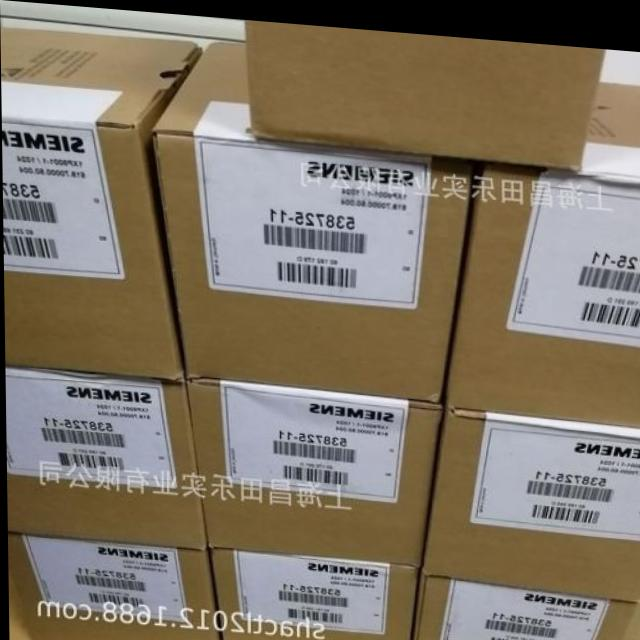box: (154, 35, 471, 398), (2, 26, 202, 375), (445, 71, 640, 416), (244, 18, 606, 165), (185, 374, 441, 561), (423, 398, 640, 592), (6, 366, 204, 545), (8, 535, 221, 640), (206, 545, 417, 640), (411, 568, 638, 640), (618, 592, 640, 640)
